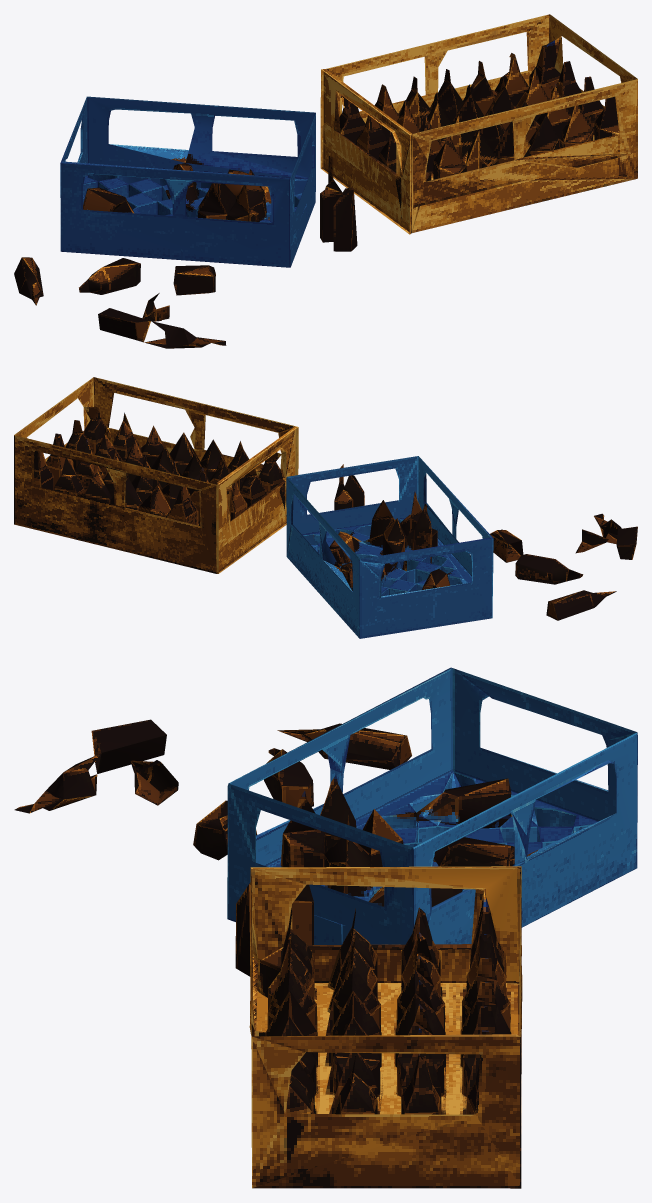
Rendered from beer_crates.glb.
3 renders of one model, top to bottom at view 1: azimuth 30°, elevation 25°; view 2: azimuth 150°, elevation 25°; view 3: azimuth 270°, elevation 25°, orthographic. The views are drawn at different scales.
Visible parts, largest first — view 1: mesh; view 2: mesh; view 3: mesh.
Boxes of the visible parts, x1,y1,x2,y2 form: mesh: (14,14,637,348); mesh: (14,377,637,638); mesh: (14,667,637,1188).
Bounding box in the file's own units: 3.82 × 0.6201 × 2.28.
Materials: 1 (1 with a texture image).
